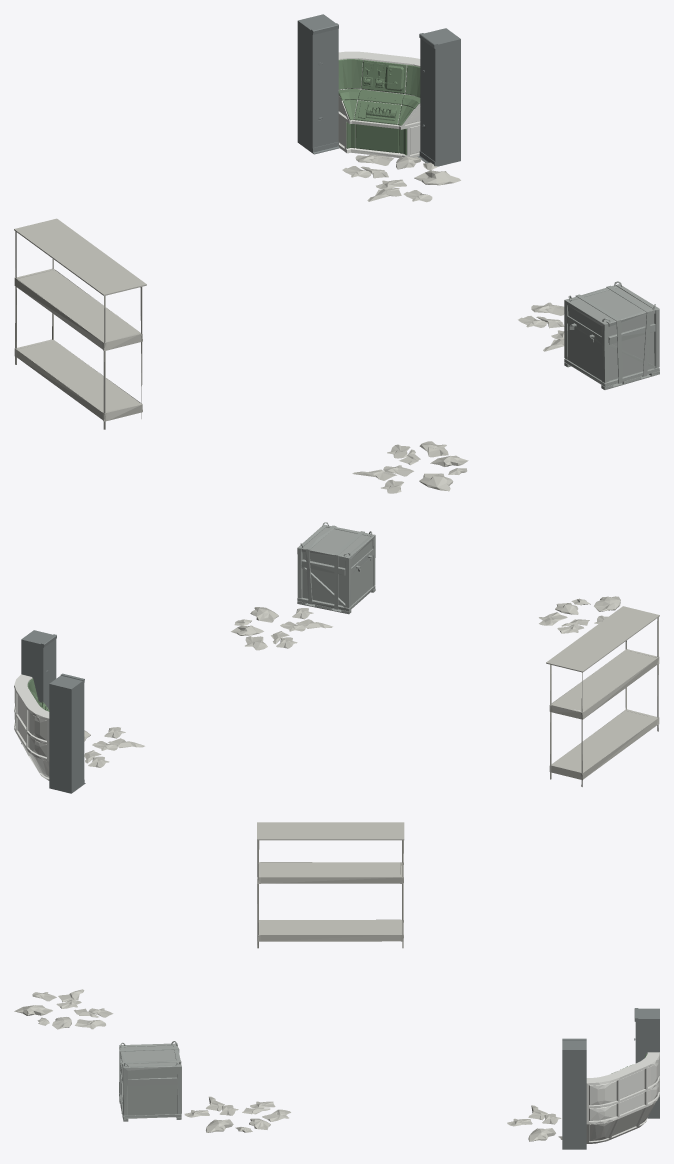
The model's file is underwater_lab_a.glb.
3 views of the same model, one above another, from view 1: azimuth 30°, elevation 25°; view 2: azimuth 150°, elevation 25°; view 3: azimuth 270°, elevation 25° (orthographic). The views are drawn at different scales.
Parts seen in each view (by area): view 1: ground_cloth_a, crew_cabinet_50x50, control_panels_mid_crn_LOD0, metal_crate_c; view 2: ground_cloth_a, crew_cabinet_50x50, metal_crate_c, control_panels_mid_crn_LOD0; view 3: ground_cloth_a, control_panels_mid_crn_LOD0, metal_crate_c, crew_cabinet_50x50.
Part boxes in pixels (x1=…): ground_cloth_a: x1=14, y1=154, x2=564, y2=493; crew_cabinet_50x50: x1=297, y1=14, x2=460, y2=166; control_panels_mid_crn_LOD0: x1=338, y1=51, x2=420, y2=157; metal_crate_c: x1=564, y1=281, x2=659, y2=389; ground_cloth_a: x1=84, y1=596, x2=659, y2=786; crew_cabinet_50x50: x1=21, y1=630, x2=85, y2=793; metal_crate_c: x1=297, y1=522, x2=375, y2=614; control_panels_mid_crn_LOD0: x1=14, y1=674, x2=49, y2=780; ground_cloth_a: x1=14, y1=822, x2=562, y2=1141; control_panels_mid_crn_LOD0: x1=586, y1=1052, x2=659, y2=1143; metal_crate_c: x1=119, y1=1041, x2=181, y2=1121; crew_cabinet_50x50: x1=562, y1=1008, x2=659, y2=1149.
Bounding box in the file's own units: 10.5 × 2.51 × 13.22.
